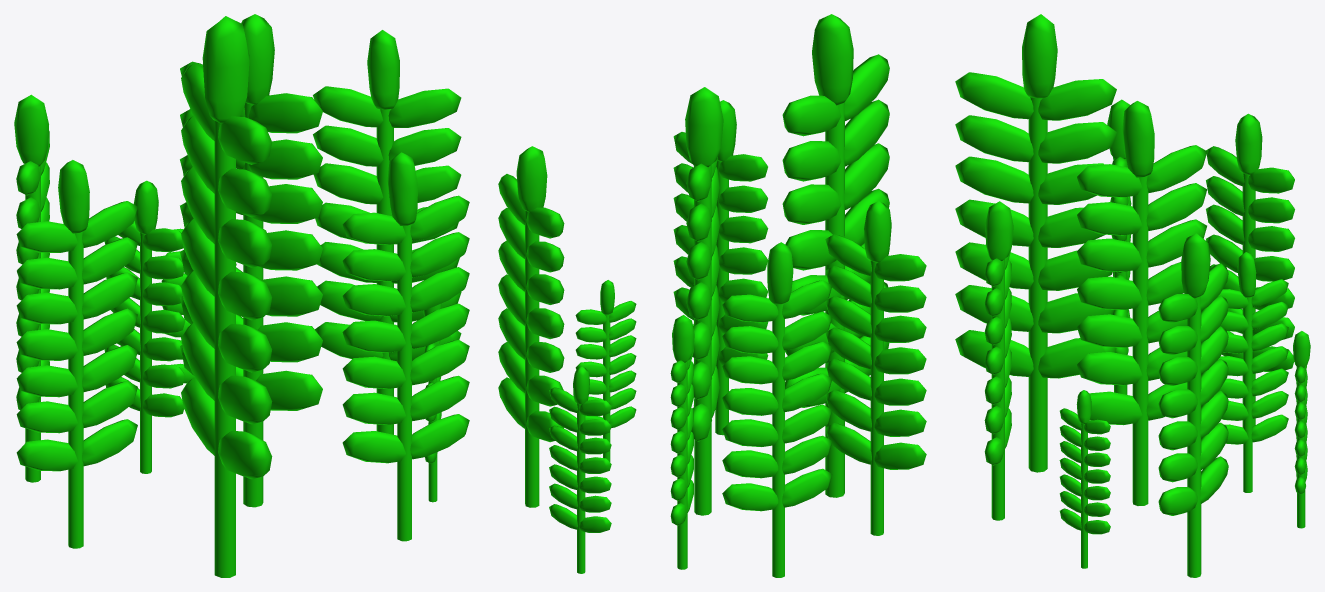
The model's file is Blé_Croissance_2.fbx.
3 renders of one model, left to right at view 1: azimuth 30°, elevation 25°; view 2: azimuth 150°, elevation 25°; view 3: azimuth 270°, elevation 25°, orthographic. The views are drawn at different scales.
Visible parts, largest first — view 1: Blé.003, Blé.007, Blé.006, Blé.001, Blé, Blé.008, Blé.002, Blé.004, Blé.005; view 2: Blé.002, Blé.003, Blé.006, Blé.001, Blé, Blé.007, Blé.005, Blé.004, Blé.008; view 3: Blé.003, Blé, Blé.001, Blé.002, Blé.008, Blé.007, Blé.004, Blé.005, Blé.006.
Part boxes in pixels (bbox=[...]): Blé.003: bbox=[181, 16, 272, 577]; Blé.007: bbox=[342, 152, 469, 541]; Blé.006: bbox=[16, 160, 137, 548]; Blé.001: bbox=[313, 30, 461, 434]; Blé: bbox=[180, 14, 322, 507]; Blé.008: bbox=[104, 180, 185, 473]; Blé.002: bbox=[14, 94, 49, 482]; Blé.004: bbox=[423, 303, 441, 502]; Blé.005: bbox=[161, 228, 236, 383]; Blé.002: bbox=[722, 242, 832, 577]; Blé.003: bbox=[782, 14, 889, 497]; Blé.006: bbox=[825, 201, 926, 535]; Blé.001: bbox=[498, 146, 564, 507]; Blé: bbox=[685, 87, 723, 515]; Blé.007: bbox=[673, 100, 768, 435]; Blé.005: bbox=[549, 366, 611, 573]; Blé.004: bbox=[575, 280, 636, 462]; Blé.008: bbox=[670, 315, 694, 569]; Blé.003: bbox=[955, 14, 1116, 472]; Blé: bbox=[1077, 101, 1207, 505]; Blé.001: bbox=[1158, 233, 1228, 577]; Blé.002: bbox=[1206, 113, 1294, 427]; Blé.008: bbox=[1218, 252, 1288, 492]; Blé.007: bbox=[984, 201, 1013, 520]; Blé.004: bbox=[1059, 390, 1110, 568]; Blé.005: bbox=[1293, 331, 1310, 528]; Blé.006: bbox=[1107, 99, 1131, 394].
Bounding box in the file's own units: 194 × 222 × 155.
